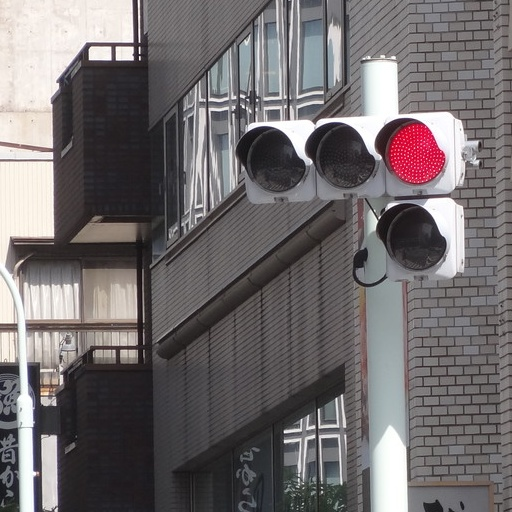Traffic_Signal_Red: (238, 120, 470, 192)
